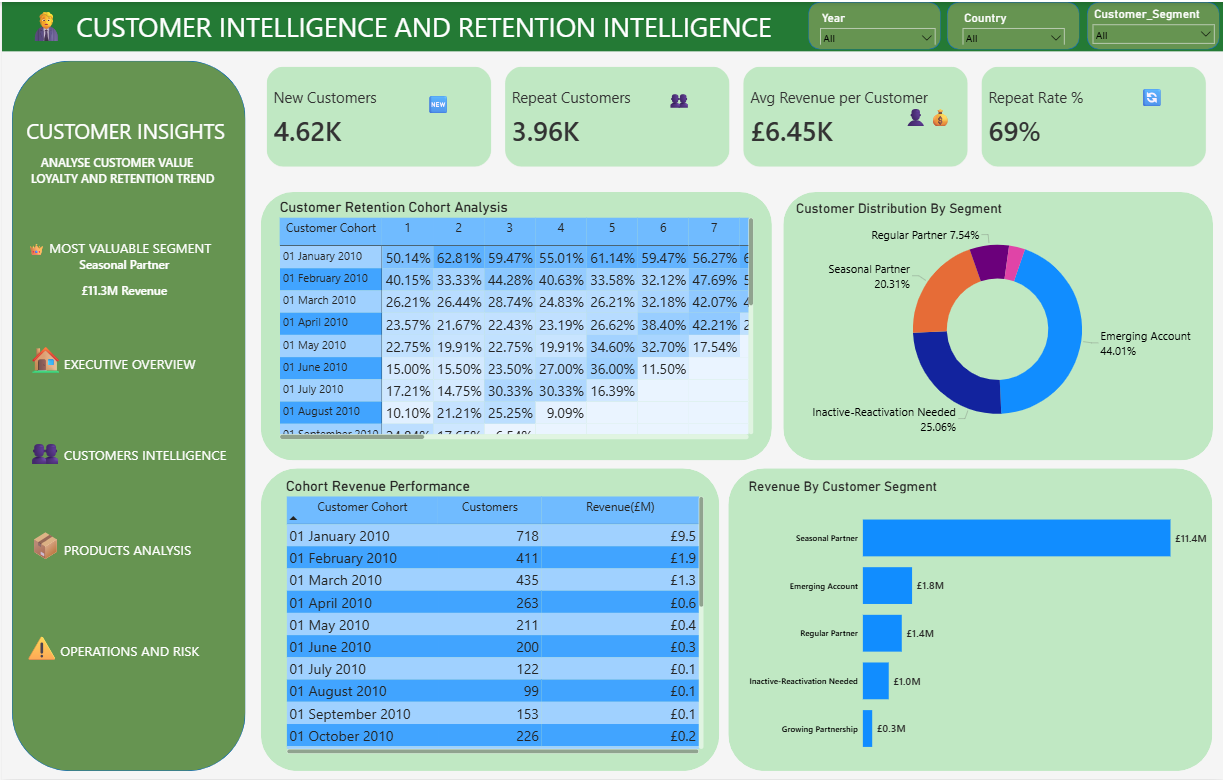

The page's visual inventory and layout, read from the dashboard file:
{"tool":"powerbi","page":{"name":"Customer Intelligence","canvas":[2200,1400],"ordinal":1},"visuals":[{"type":"textbox","box":[0,0,2200.4,89],"z":0},{"type":"shape","box":[17.5,105.1,420.4,1278.7],"z":1000},{"type":"textbox","box":[17.5,201.4,409.4,188.3],"z":2000},{"type":"shape","box":[466.4,341.3,920,483.3],"z":3000},{"type":"shape","box":[466.4,838.6,825.4,545.2],"z":4000},{"type":"shape","box":[1405.5,341.3,773.8,483.3],"z":5000},{"type":"shape","box":[1307.1,838.6,871.4,545.2],"z":6000},{"type":"cardVisual","fields":{"Data":["_Measures.New Cust Count","_Measures.Repeat Cust Count","_Measures.Avg Revenue per Customer","_Measures.RR%"]},"box":[466.4,105.1,1712.2,201.4],"z":7000},{"type":"textbox","box":[757.6,157.6,83.2,65.7],"z":8000},{"type":"textbox","box":[1193.3,146.7,74.4,65.7],"z":9000},{"type":"textbox","box":[1618,179.5,113.9,65.7],"z":10000},{"type":"textbox","box":[2042.8,144.5,59.1,67.9],"z":11000},{"type":"pivotTable","title":"Customer Retention Cohort Analysis","fields":{"Rows":["vw_Customer_Cohorts.Cohort_Date"],"Values":["select","_Measures.Cohort Retention %"],"Columns":["vw_Customer_Cohorts.Cohort_Age_Months"]},"box":[496.1,356.1,862.8,436.7],"z":12000},{"type":"donutChart","title":"Customer Distribution By Segment","fields":{"Category":["vw_Customer_RFM_Segments.WholeSale_Segment"],"Y":["Count(vw_Customer_RFM_Segments.Customer_ID)"]},"box":[1423.2,356.9,735.7,435.7],"z":13000},{"type":"clusteredBarChart","title":"Revenue By Customer Segment","fields":{"Category":["vw_Customer_RFM_Segments.WholeSale_Segment"],"Y":["Sum(vw_Customer_RFM_Segments.Monetary)"]},"box":[1337.8,858.3,840.8,525.5],"z":14000},{"type":"tableEx","title":"Cohort Revenue Performance","fields":{"Values":["vw_Customer_Cohorts.Cohort_Date","_Measures.Cohort Size","Dim_Date.Revenue(M)"]},"box":[505.8,858.3,761.9,501.4],"z":15000},{"type":"textbox","box":[41.6,602.1,372.2,83.2],"z":16000},{"type":"textbox","box":[39.4,766.3,409.4,94.1],"z":17000},{"type":"textbox","box":[39.4,939.3,356.9,94.1],"z":18000},{"type":"textbox","box":[32.8,1121,372.2,96.3],"z":19000},{"type":"textbox","box":[41.6,420.4,359.1,162],"z":20000},{"type":"shape","box":[1451.6,0,238.7,85.4],"z":21000},{"type":"shape","box":[1701.2,0,238.7,85.4],"z":22000},{"type":"shape","box":[1953,0,238.7,85.4],"z":23000},{"type":"slicer","fields":{"Values":["Dim_Date.Year"]},"box":[1462.6,10.9,227.7,65.7],"z":24000},{"type":"slicer","fields":{"Values":["Dim_Country.Country"]},"box":[1718.8,10.9,203.6,65.7],"z":25000},{"type":"slicer","fields":{"Values":["vw_Customer_RFM_Segments.WholeSale_Segment"]},"box":[1953.4,5.3,239.2,78.9],"z":26000}]}

Visuals, with their boxes in screenshot pixels (x1, y1, x2, y2), scaled from the page's 2200x1400 canvas onto the 1223x780 screenshot:
textbox: l=0, t=0, r=1222, b=50
shape: l=10, t=59, r=243, b=771
textbox: l=10, t=112, r=237, b=217
shape: l=259, t=190, r=771, b=459
shape: l=259, t=467, r=718, b=771
shape: l=781, t=190, r=1211, b=459
shape: l=727, t=467, r=1211, b=771
cardVisual - _Measures.New Cust Count x _Measures.Repeat Cust Count: l=259, t=59, r=1211, b=171
textbox: l=421, t=88, r=467, b=124
textbox: l=663, t=82, r=705, b=118
textbox: l=899, t=100, r=963, b=137
textbox: l=1136, t=81, r=1168, b=118
"Customer Retention Cohort Analysis" pivotTable: l=276, t=198, r=755, b=442
"Customer Distribution By Segment" donutChart: l=791, t=199, r=1200, b=442
"Revenue By Customer Segment" clusteredBarChart: l=744, t=478, r=1211, b=771
"Cohort Revenue Performance" tableEx: l=281, t=478, r=705, b=758
textbox: l=23, t=335, r=230, b=382
textbox: l=22, t=427, r=249, b=479
textbox: l=22, t=523, r=220, b=576
textbox: l=18, t=625, r=225, b=678
textbox: l=23, t=234, r=223, b=324
shape: l=807, t=0, r=940, b=48
shape: l=946, t=0, r=1078, b=48
shape: l=1086, t=0, r=1218, b=48
slicer - Dim_Date.Year: l=813, t=6, r=940, b=43
slicer - Dim_Country.Country: l=955, t=6, r=1069, b=43
slicer - vw_Customer_RFM_Segments.WholeSale_Segment: l=1086, t=3, r=1219, b=47
